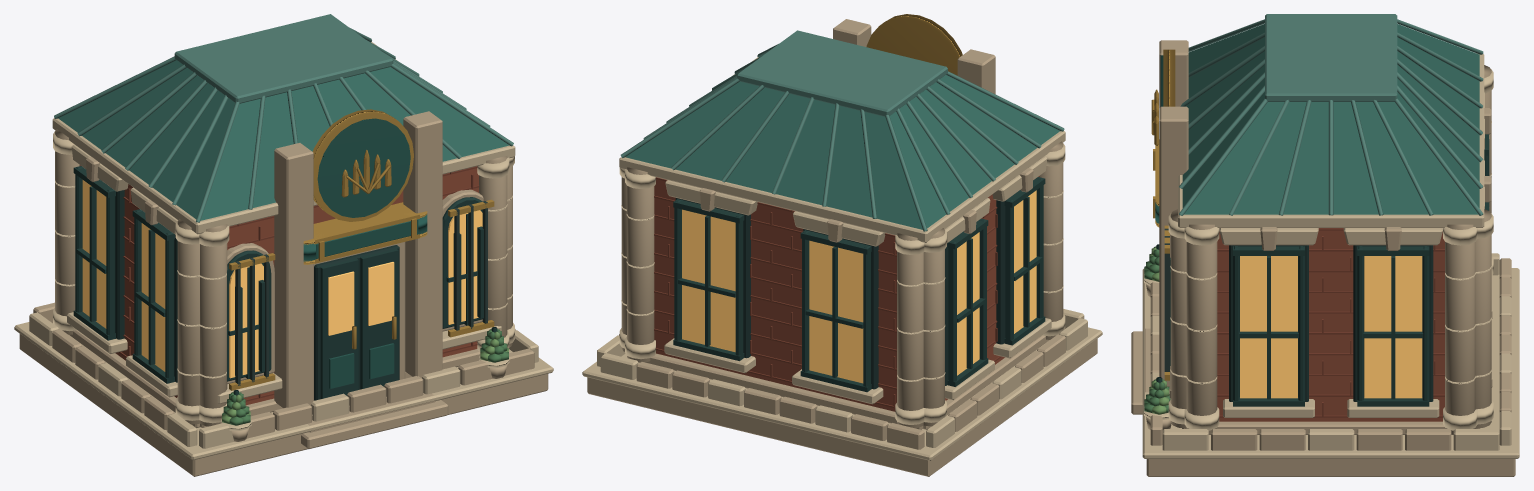
3 views of the same model, side by side, from view 1: azimuth 30°, elevation 25°; view 2: azimuth 150°, elevation 25°; view 3: azimuth 270°, elevation 25° (orthographic). The views are drawn at different scales.
Visible parts, largest first — view 1: expansion_vault_bank_geometry; view 2: expansion_vault_bank_geometry; view 3: expansion_vault_bank_geometry.
Boxes of the visible parts, bbox=[...] form: expansion_vault_bank_geometry: bbox=[14, 14, 553, 476]; expansion_vault_bank_geometry: bbox=[582, 14, 1102, 476]; expansion_vault_bank_geometry: bbox=[1131, 14, 1519, 476].
Bounding box in the file's own units: 1.04 × 0.8656 × 0.9159.
